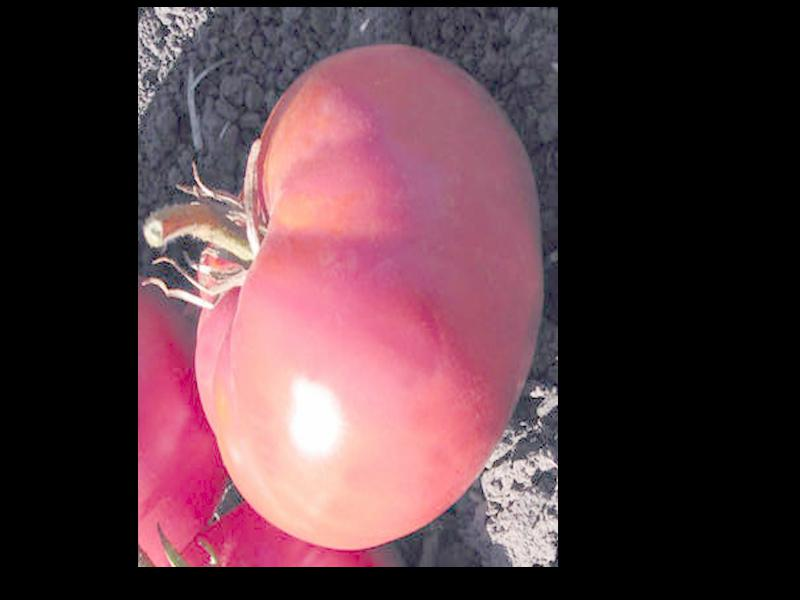Tomato: (197, 43, 542, 549)
